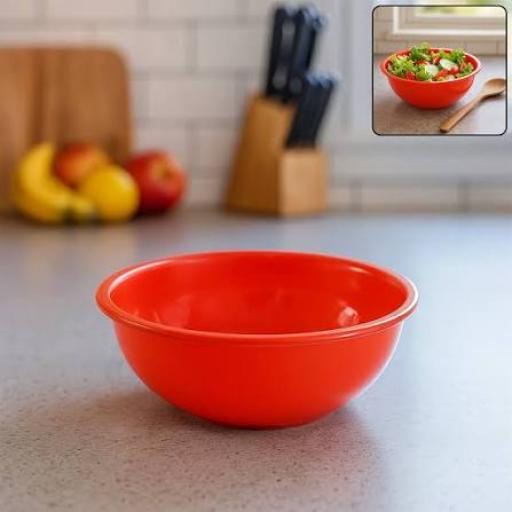Bowl: (99, 251, 417, 428)
